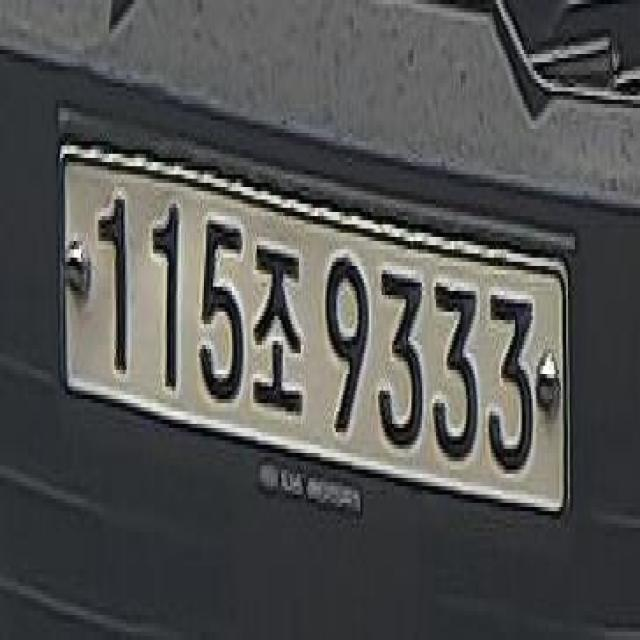illegal_plate: (56, 132, 570, 534)
